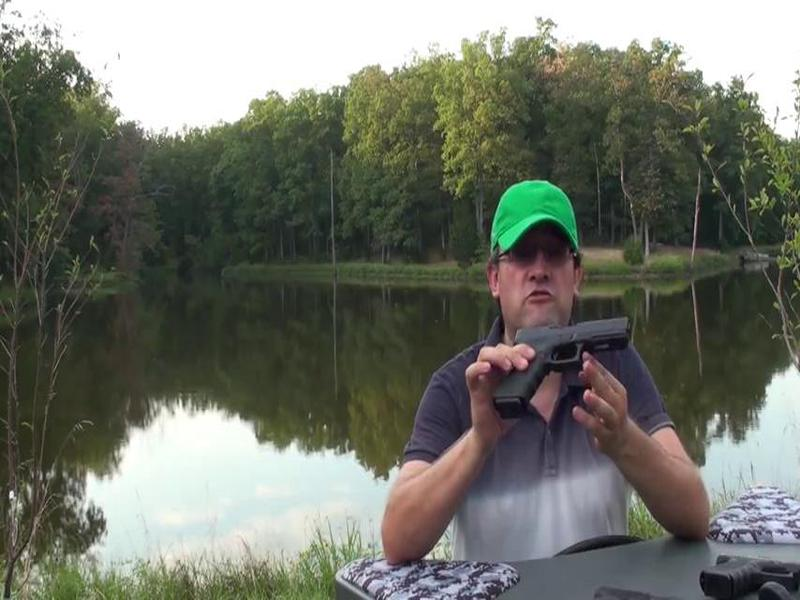Pistola: (483, 317, 635, 420)
